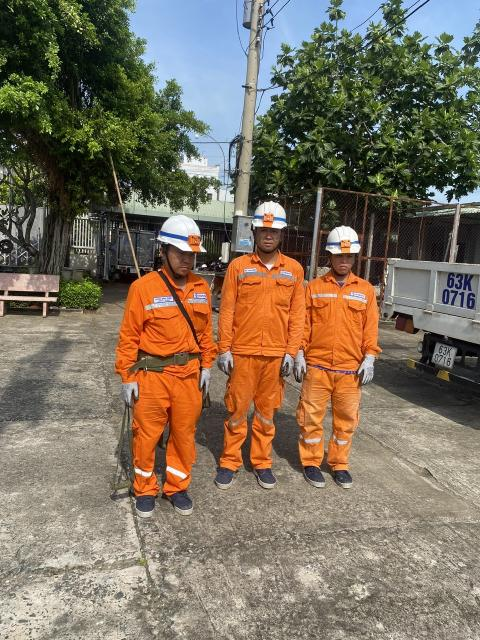gloves: (101, 371, 147, 421), (353, 349, 385, 400), (218, 340, 242, 385), (197, 368, 218, 405), (294, 352, 315, 388), (278, 344, 295, 383)
harness: (129, 343, 214, 370)
helmet: (144, 210, 213, 263), (243, 191, 305, 244), (318, 224, 379, 258)
shoes: (125, 472, 159, 526), (284, 458, 333, 495), (210, 454, 247, 502), (164, 478, 201, 522), (328, 448, 359, 496), (248, 455, 282, 496)
